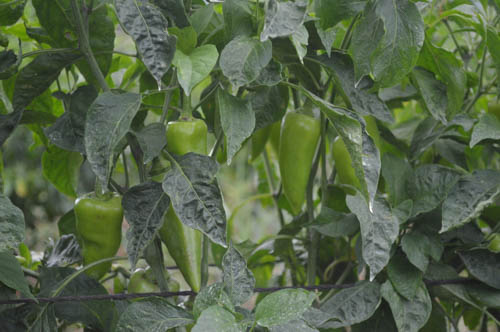ChiliPepper: (153, 177, 200, 291), (279, 114, 319, 222), (334, 117, 383, 201), (74, 197, 122, 282), (167, 120, 209, 163)
